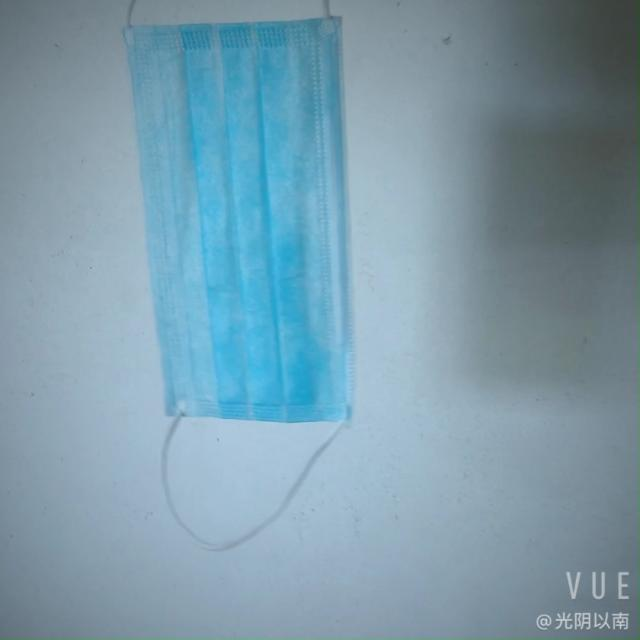non-organic waste: (113, 16, 383, 424)
